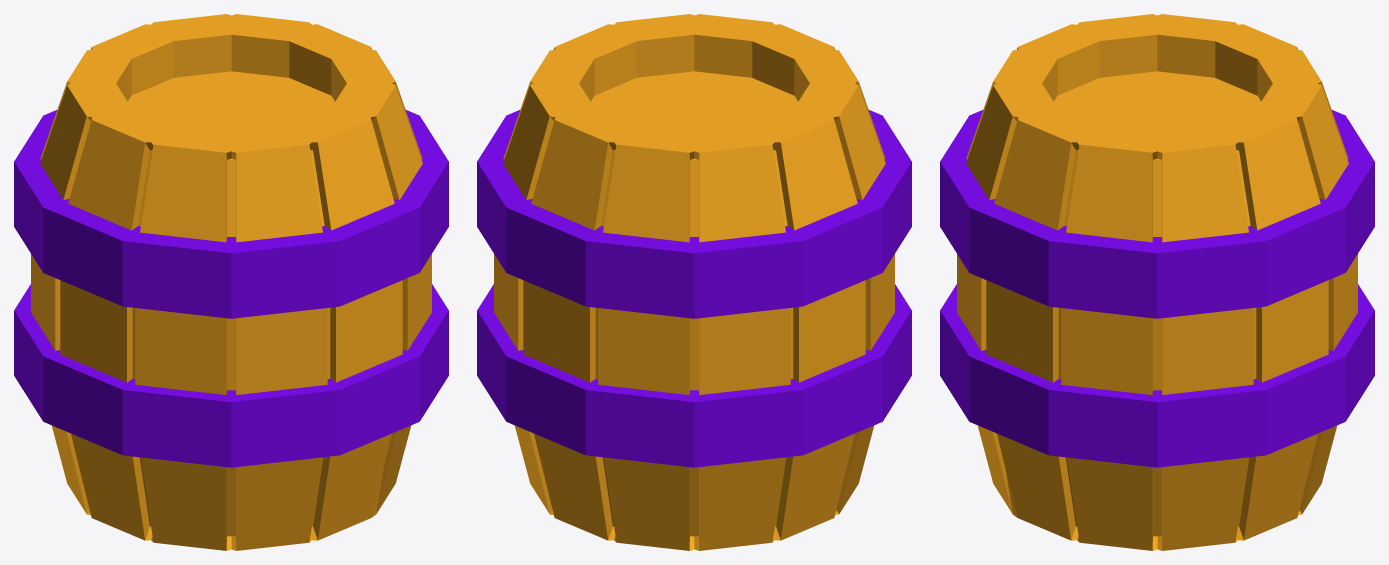
Rendered from Barrel_01.fbx.
3 renders of one model, left to right at view 1: azimuth 30°, elevation 25°; view 2: azimuth 150°, elevation 25°; view 3: azimuth 270°, elevation 25°, orthographic.
Visible parts, largest first — view 1: Obstacle_Barrel_01; view 2: Obstacle_Barrel_01; view 3: Obstacle_Barrel_01.
Boxes of the visible parts, left/top/right/bottom form: Obstacle_Barrel_01: left=14, top=14, right=448, bottom=550; Obstacle_Barrel_01: left=477, top=14, right=911, bottom=550; Obstacle_Barrel_01: left=940, top=14, right=1374, bottom=550.
Size of the model in its own units: 66.18 by 66.88 by 66.18.
1 material, 1 textured.
